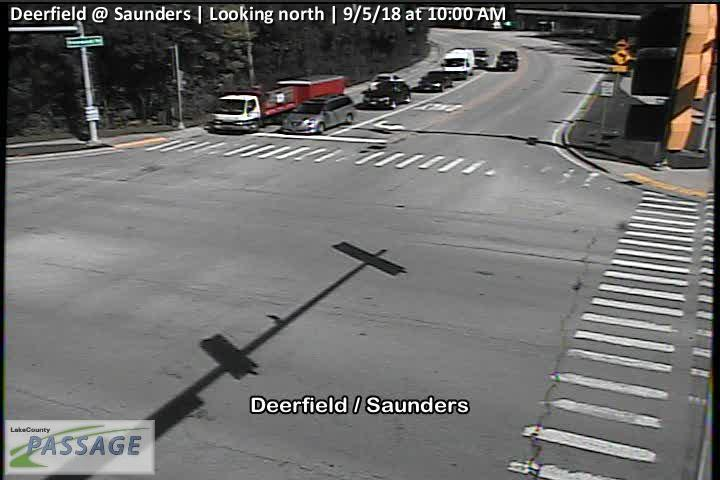Sedan: (280, 92, 356, 134), (363, 80, 411, 108), (418, 72, 453, 92), (495, 49, 517, 72)
Truck: (202, 71, 344, 134), (438, 49, 474, 80)
